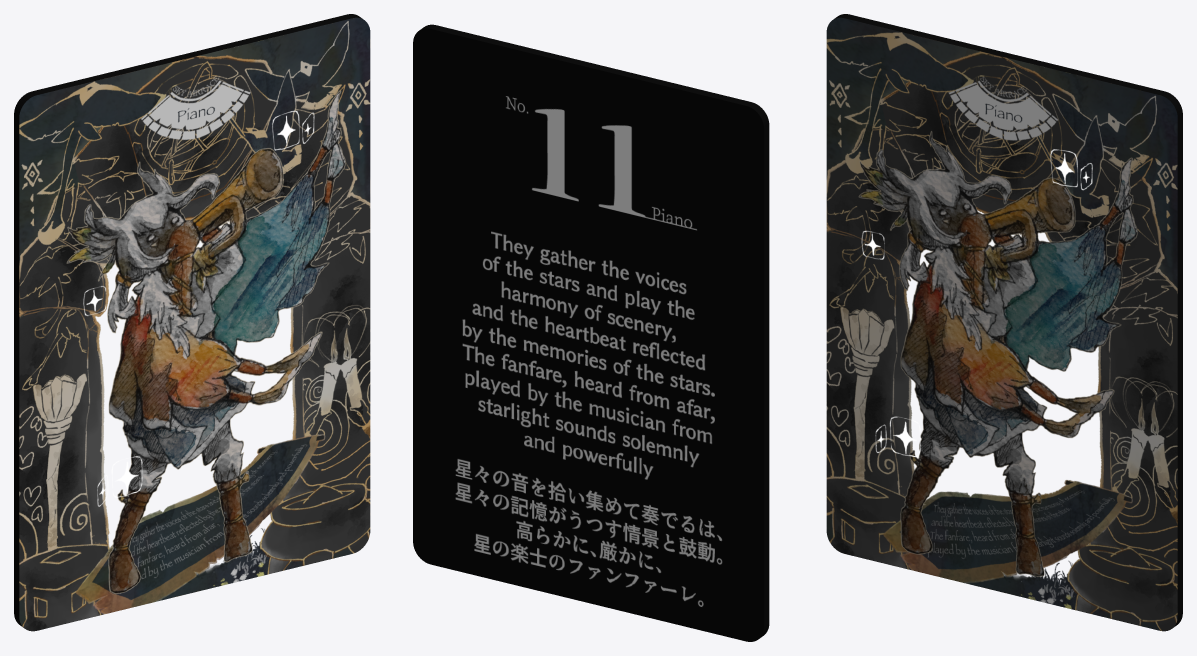
The model's file is 11_Piano.glb.
3 renders of one model, left to right at view 1: azimuth 30°, elevation 25°; view 2: azimuth 150°, elevation 25°; view 3: azimuth 330°, elevation 25°, orthographic.
Visible parts, largest first — view 1: きらきら; view 2: きらきら; view 3: きらきら.
Boxes of the visible parts, box(x1,y1,x2,y2) form: きらきら: box(14, 14, 370, 631); きらきら: box(413, 24, 769, 641); きらきら: box(826, 14, 1182, 631).
Bounding box in the file's own units: 0.236 × 0.344 × 0.023.
5 materials, 4 textured.
